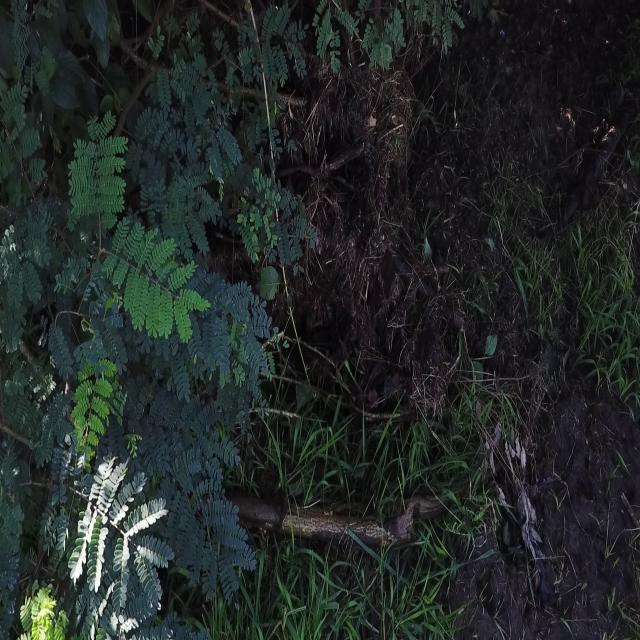Mysore-Thorn-Weed: (0, 0, 309, 637), (231, 0, 460, 79)
